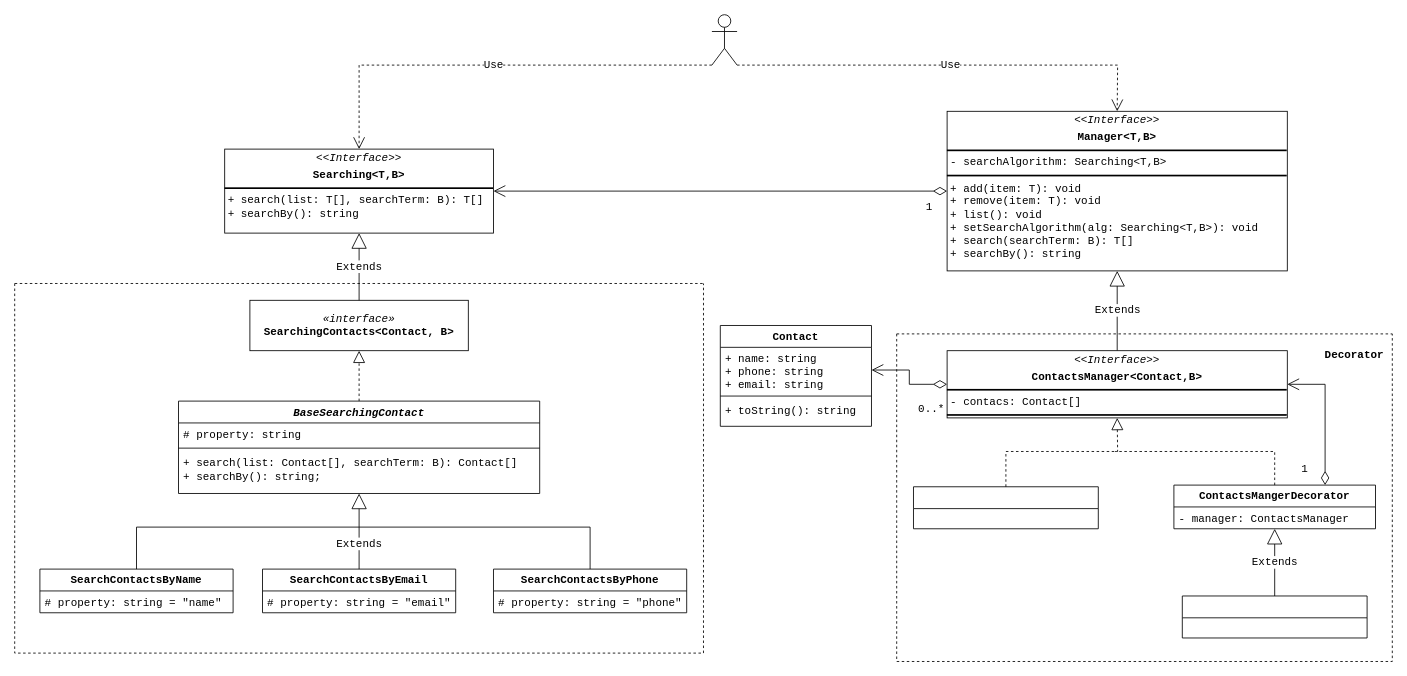
This 1407x676 diagram has some shape labels left out. The shapes that lost their labels are listed below. From the top down, each one's centre as x and y in pixels, then its label:
the point at 724,39: App
the point at 359,468: Strategy
the point at 1005,507: ContactsManagerComponent
the point at 1274,616: ContactsManagerLog
